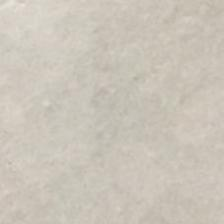Non_Crack: (22, 17, 212, 209)
